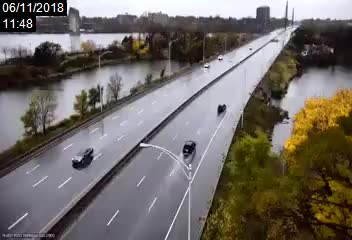personal_car: (69, 145, 96, 166), (182, 138, 197, 158), (216, 102, 228, 112), (216, 53, 225, 61), (203, 61, 210, 69)
